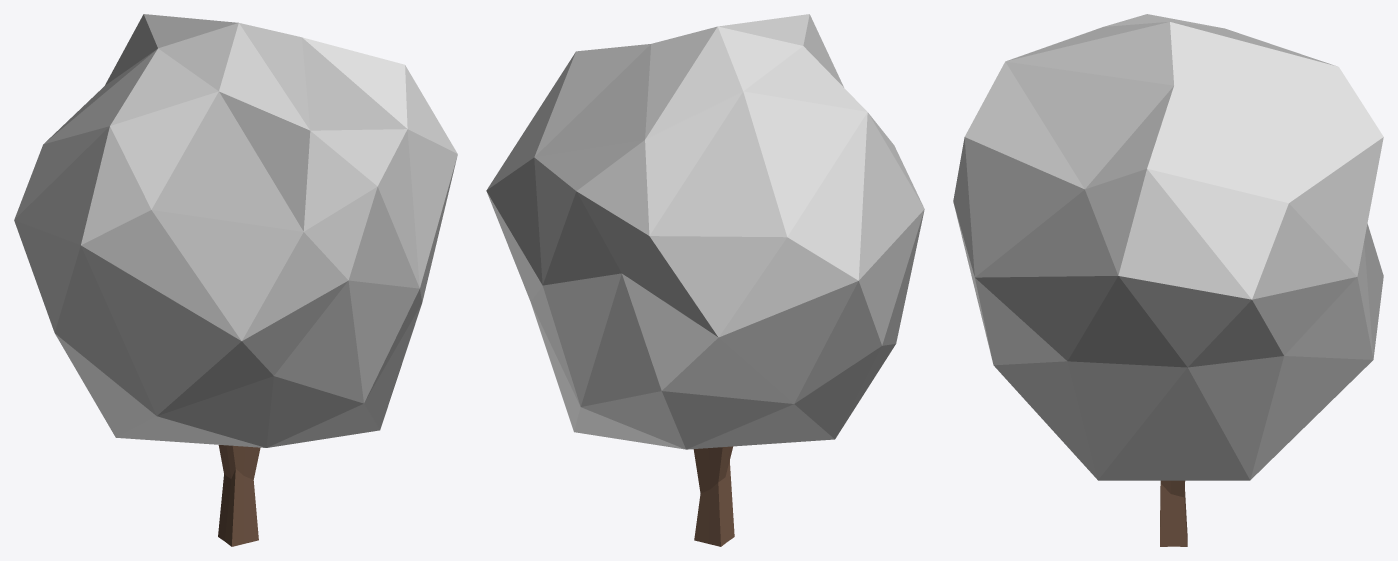
File: Tree_9_White.fbx
3 views of the same model, side by side, from view 1: azimuth 30°, elevation 25°; view 2: azimuth 150°, elevation 25°; view 3: azimuth 270°, elevation 25° (orthographic).
Visible parts, largest first — view 1: Tree_9_White_Part_1, Tree_9_White_Part_2; view 2: Tree_9_White_Part_1, Tree_9_White_Part_2; view 3: Tree_9_White_Part_1, Tree_9_White_Part_2.
Boxes of the visible parts, left/top/right/bottom form: Tree_9_White_Part_1: left=14, top=14, right=457, bottom=447; Tree_9_White_Part_2: left=218, top=445, right=260, bottom=546; Tree_9_White_Part_1: left=486, top=14, right=924, bottom=449; Tree_9_White_Part_2: left=693, top=446, right=734, bottom=546; Tree_9_White_Part_1: left=953, top=14, right=1383, bottom=480; Tree_9_White_Part_2: left=1160, top=480, right=1187, bottom=546.
Size of the model in its own units: 583 by 765 by 576.
